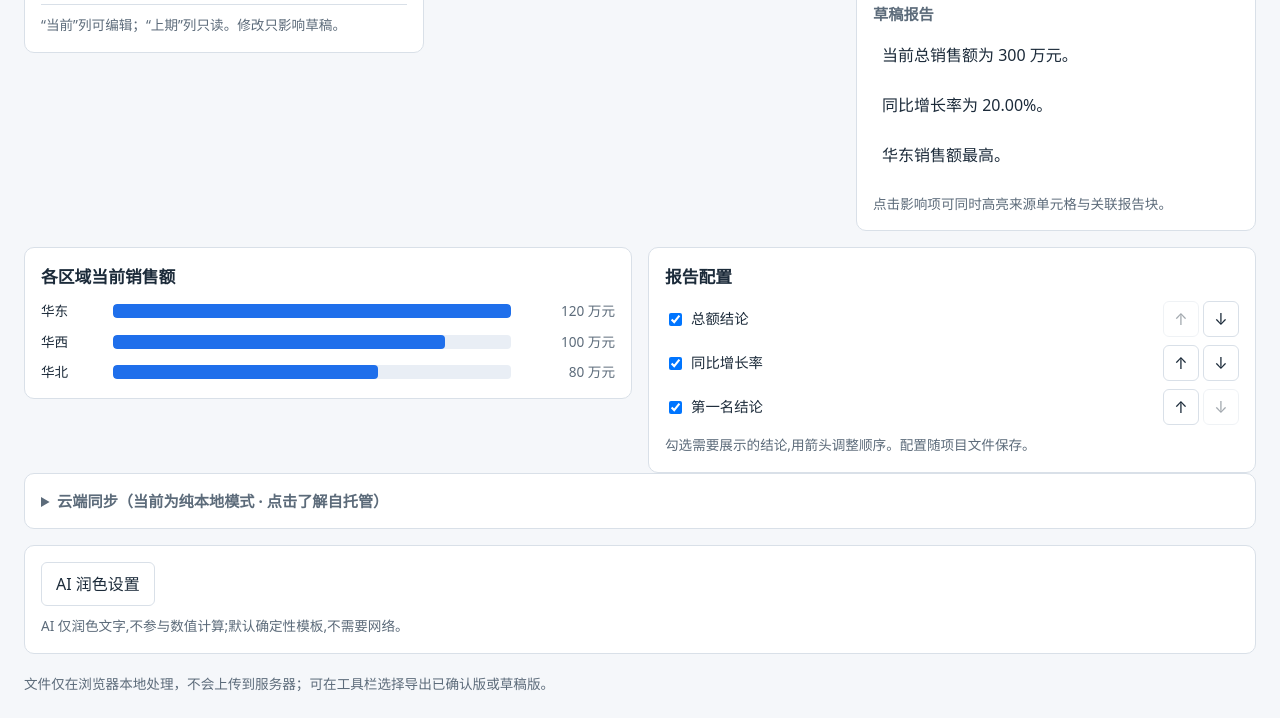
Test: report configuration UI › can toggle a block off so it disappears from the report
This screenshot has width=1280, height=718.
(page scrolled)
What coordinates should you click on to do the following:
click the checkbox named "显示同比增长率"
I would click on:
 (676, 363)
Its box is x1=669 y1=357 x2=682 y2=370.
(page scrolled)
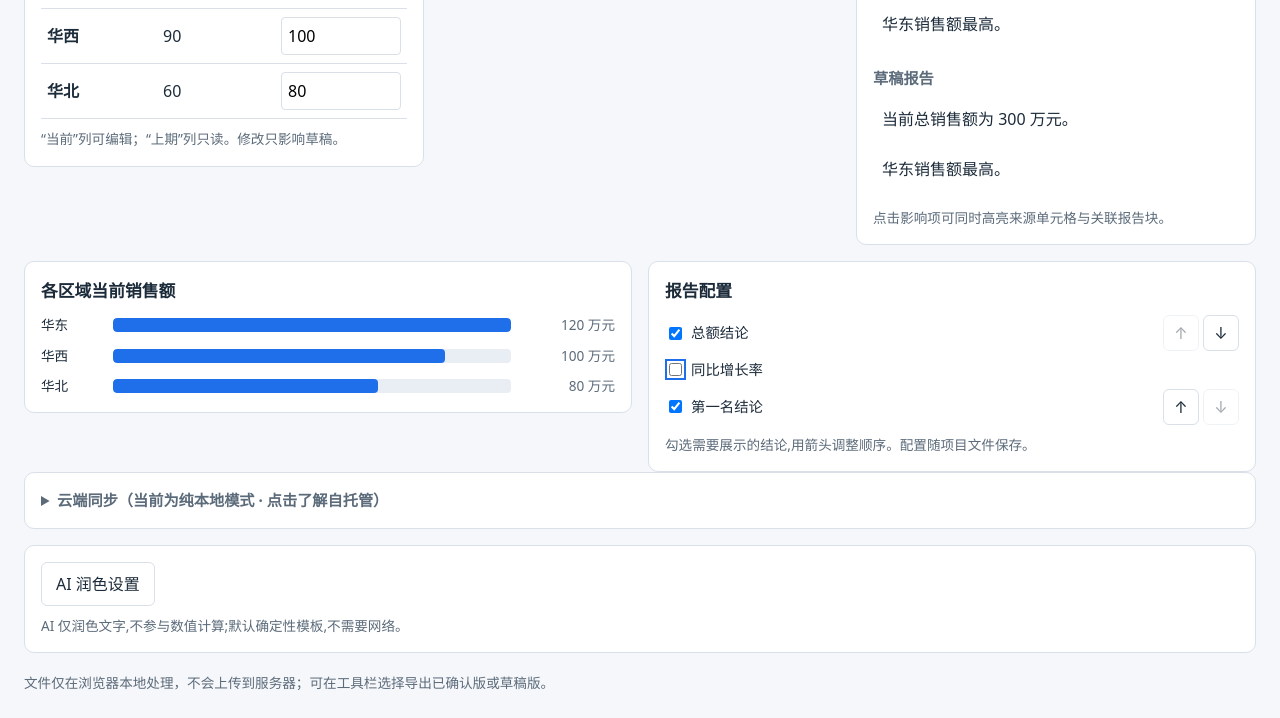
Check: the text "草稿报告" no longer shows "同比增长率为"
